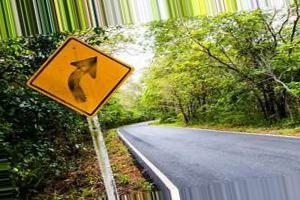right: (26, 37, 132, 117)
